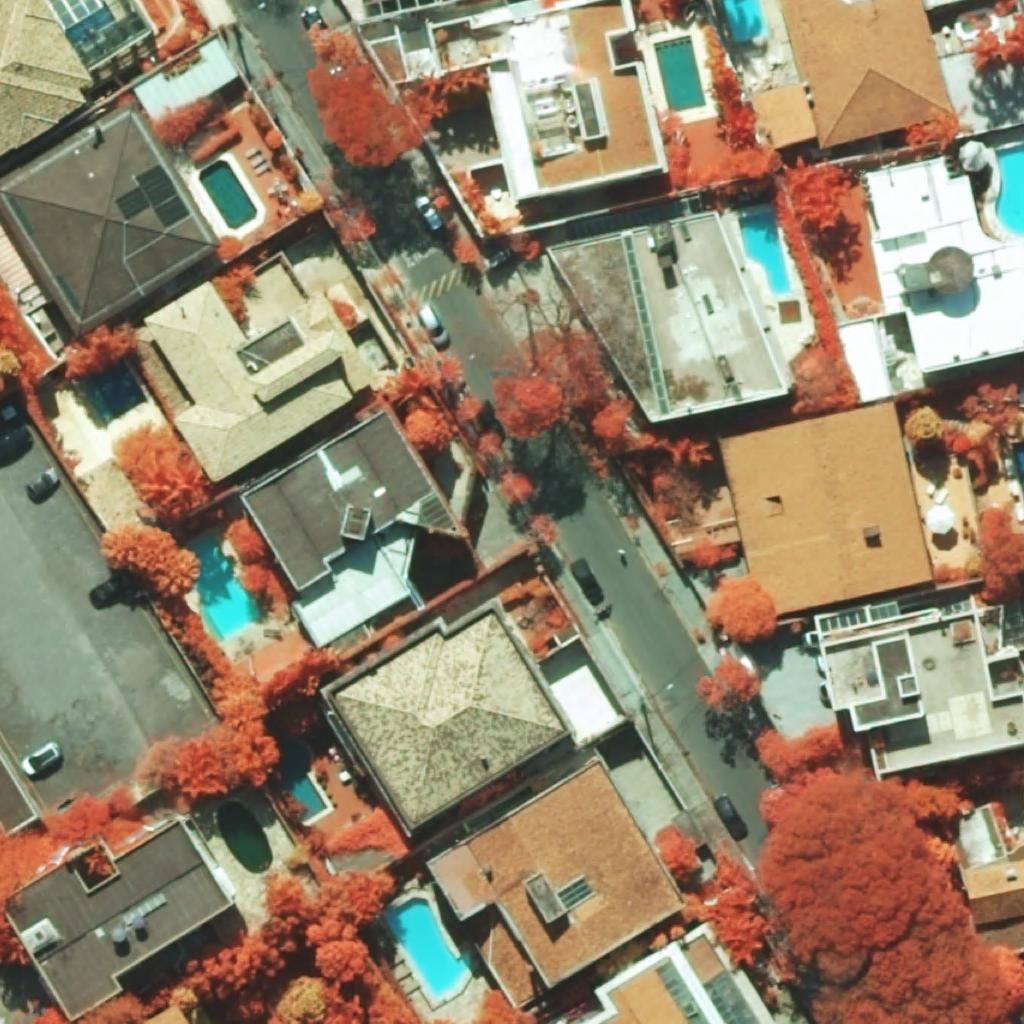pool: (385, 897, 471, 997), (188, 533, 265, 642), (739, 211, 791, 294), (199, 160, 258, 231), (653, 35, 706, 112), (218, 801, 273, 874), (281, 739, 327, 821), (995, 144, 1024, 236), (65, 6, 116, 45), (722, 0, 767, 41)
